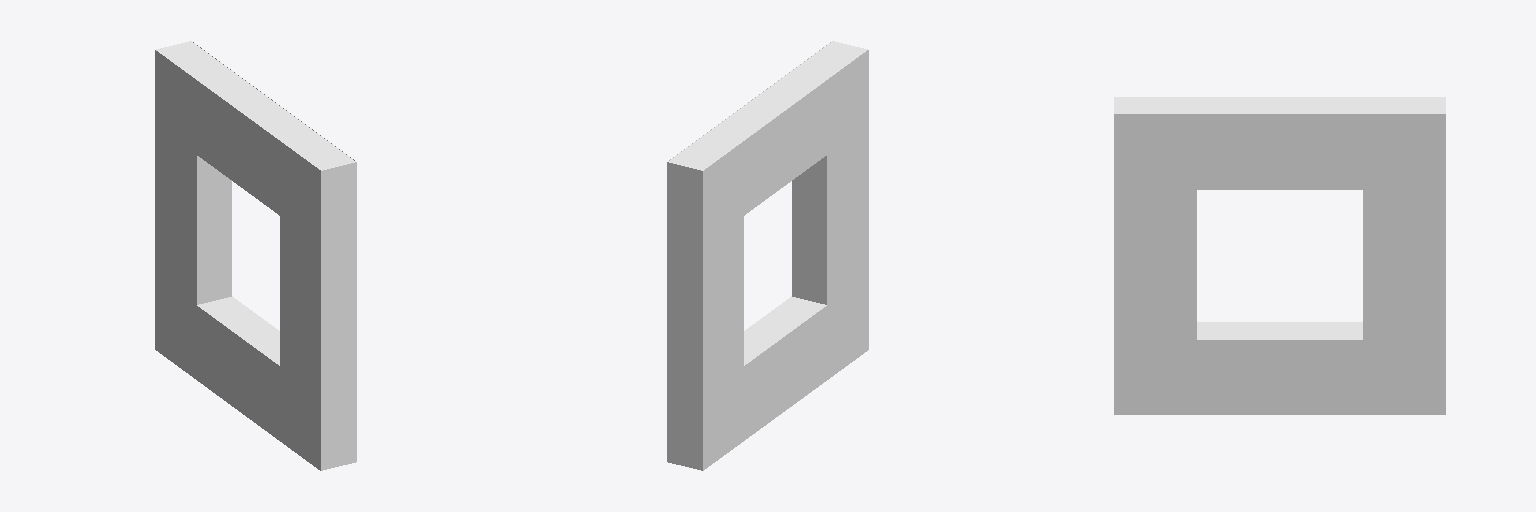
The model's file is facade_hollow.obj.
The picture shows the model from 3 angles: view 1: azimuth 30°, elevation 25°; view 2: azimuth 150°, elevation 25°; view 3: azimuth 270°, elevation 25°; orthographic projection.
Parts seen in each view (by area): view 1: Cube.003; view 2: Cube.003; view 3: Cube.003.
Boxes of the visible parts, x1=… form: Cube.003: x1=155, y1=41, x2=356, y2=470; Cube.003: x1=667, y1=41, x2=868, y2=470; Cube.003: x1=1114, y1=97, x2=1445, y2=414.
Bounding box in the file's own units: 0.125 × 1 × 1.